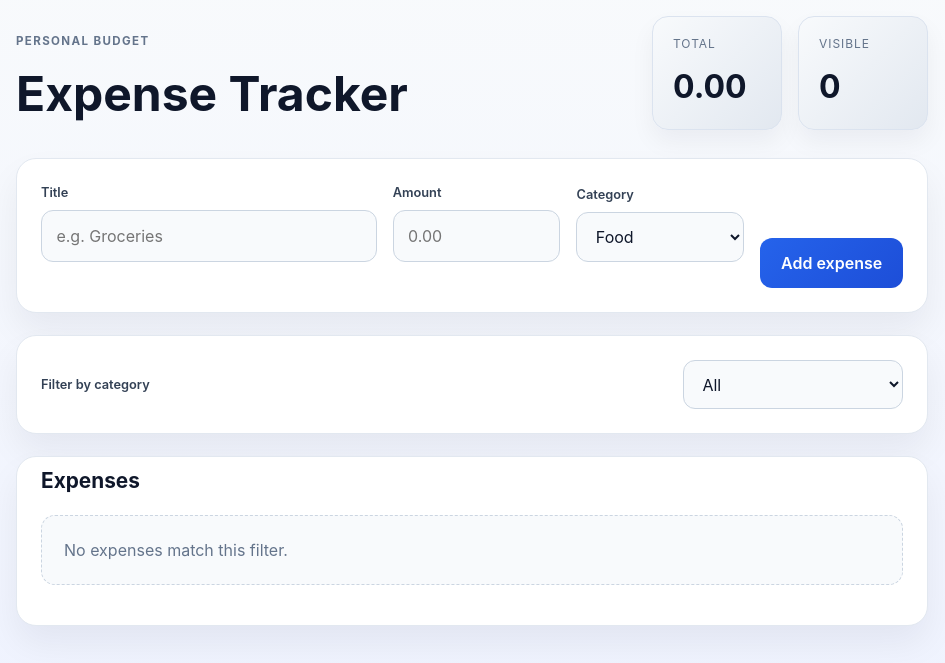
Expense tracker app › adds a valid expense and shows the updated total and count
Step 1. Type "Lunch" into the field labelled "Title" → (209, 236), box 41,210 -> 377,262
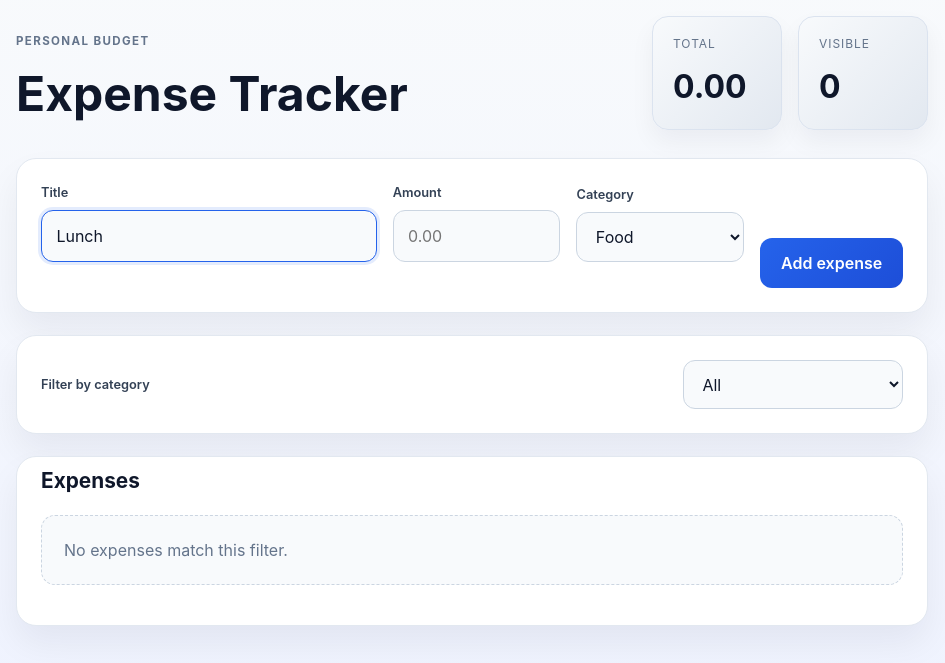
Step 2. Type "250" into the number field labelled "Amount" → (476, 236), box 393,210 -> 560,262
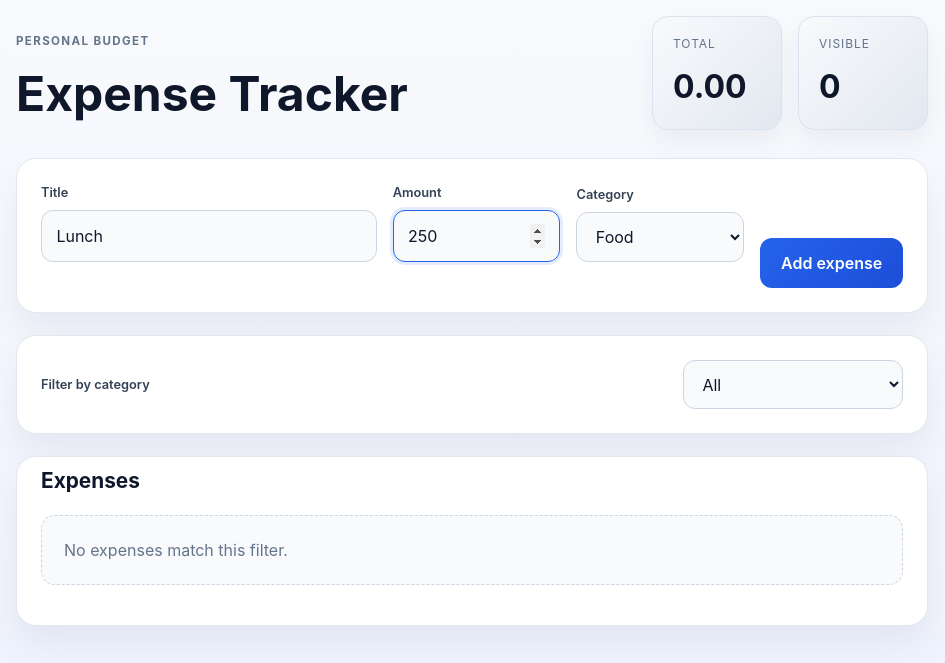
Step 3. Select "Food" in the dropdown labelled "Category" → (660, 237), box 576,212 -> 744,262
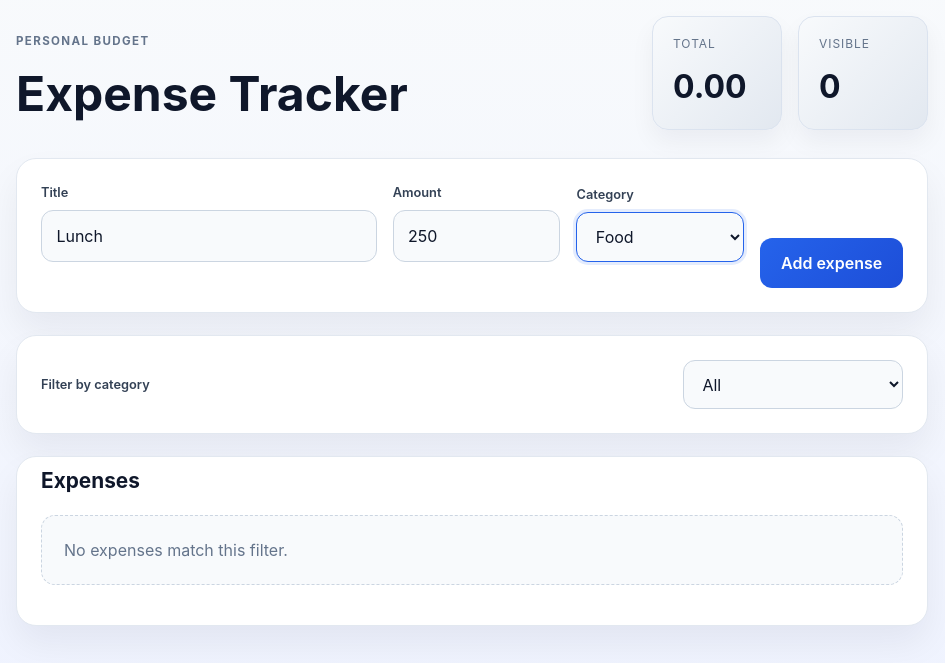
Step 4. Click the button "Add expense" → (832, 263), box 760,238 -> 903,288
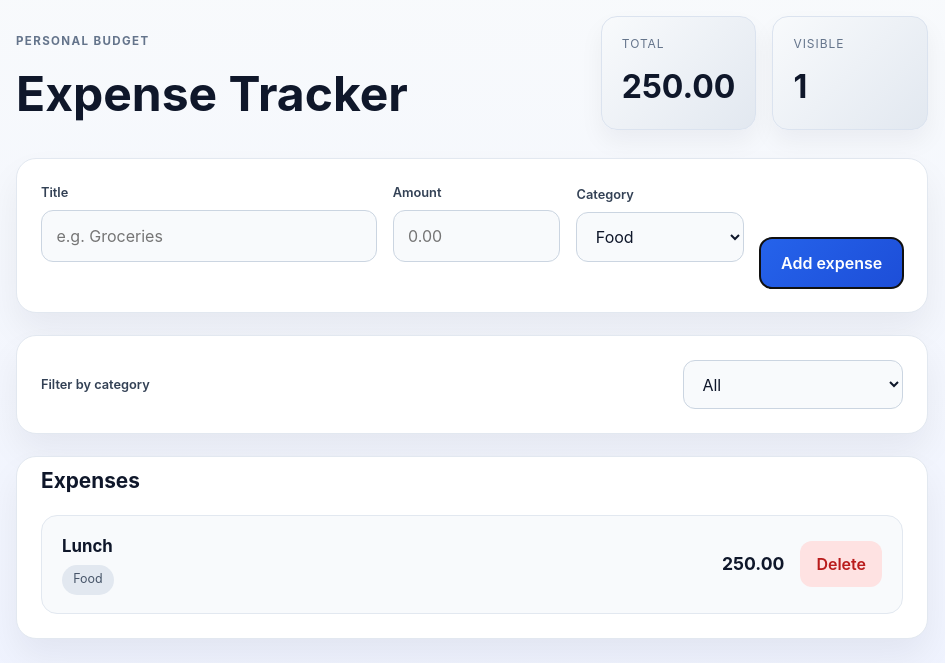
Expected: the heading "Lunch" is shown, 62,534 -> 114,559
Expected: the text with test id "total" reads "250.00", 622,67 -> 735,106
Expected: the text with test id "count" reads "1", 793,67 -> 807,106
